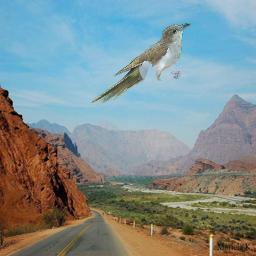Cuckoo: (90, 23, 191, 104)
